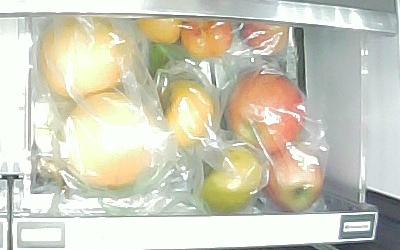apple_vinyl: (224, 69, 307, 152), (263, 149, 326, 213)
grapefruit_vinyl: (64, 91, 155, 190), (39, 16, 130, 97)
persimmon_vinyl: (201, 147, 265, 214), (160, 78, 217, 147)
prune_vinyl: (180, 18, 235, 60), (238, 20, 290, 58), (134, 17, 184, 46)
